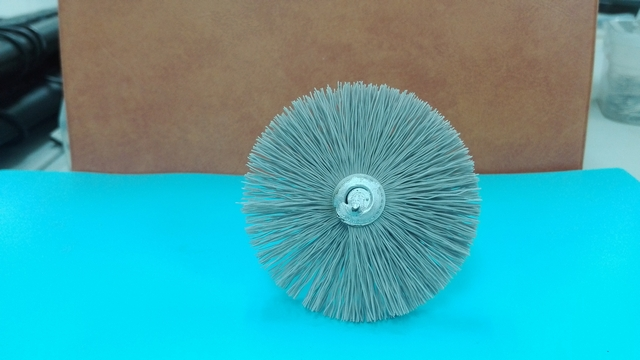TOOL: (113, 44, 494, 333), (212, 72, 512, 324), (262, 78, 526, 344), (217, 87, 488, 316)
